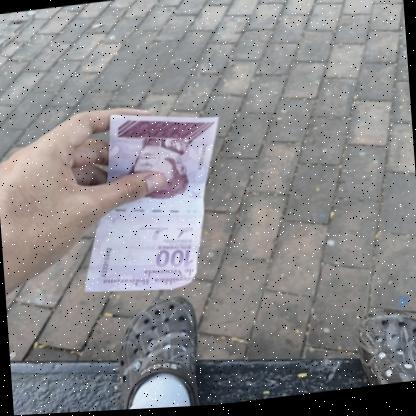vef_front: (72, 103, 232, 302)
